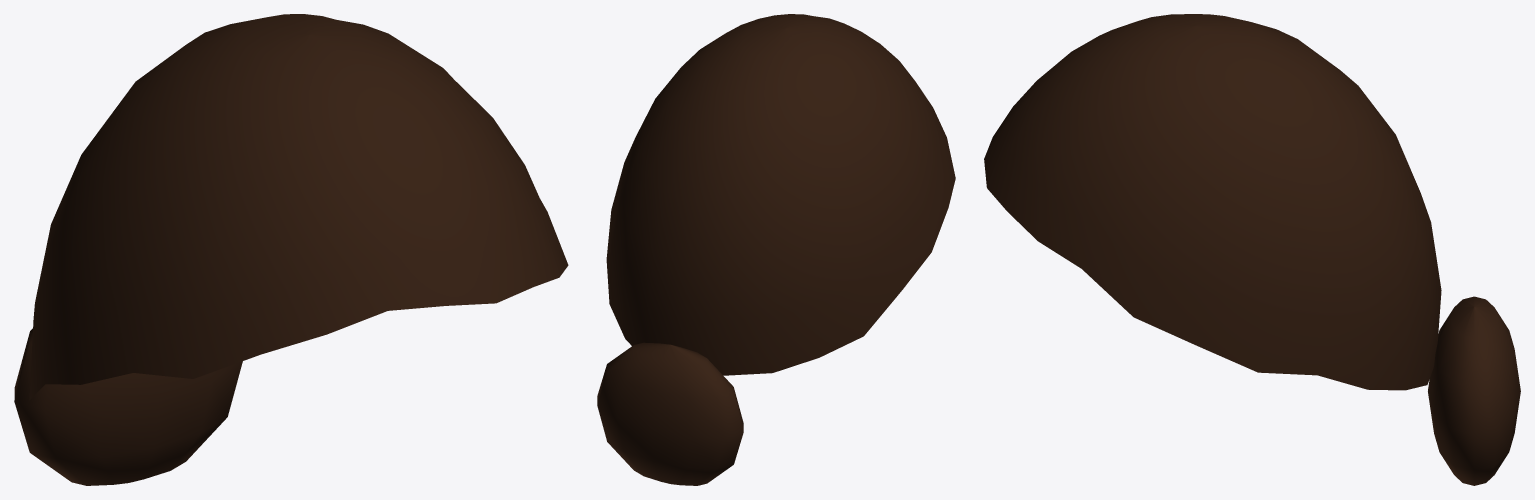
The model's file is swept-bun-proxy.glb.
3 renders of one model, left to right at view 1: azimuth 30°, elevation 25°; view 2: azimuth 150°, elevation 25°; view 3: azimuth 270°, elevation 25°, orthographic. The views are drawn at different scales.
Visible parts, largest first — view 1: swept-bun - silhouette only, S02 silhouette bun; view 2: swept-bun - silhouette only, S02 silhouette bun; view 3: swept-bun - silhouette only, S02 silhouette bun.
Part boxes in pixels (box(x1,y1,x2,y2)): swept-bun - silhouette only: box(29, 14, 568, 400); S02 silhouette bun: box(14, 328, 242, 485); swept-bun - silhouette only: box(606, 14, 955, 375); S02 silhouette bun: box(597, 342, 743, 485); swept-bun - silhouette only: box(984, 14, 1441, 390); S02 silhouette bun: box(1428, 296, 1520, 485).
Bounding box in the file's own units: 0.1755 × 0.213 × 0.2306.
